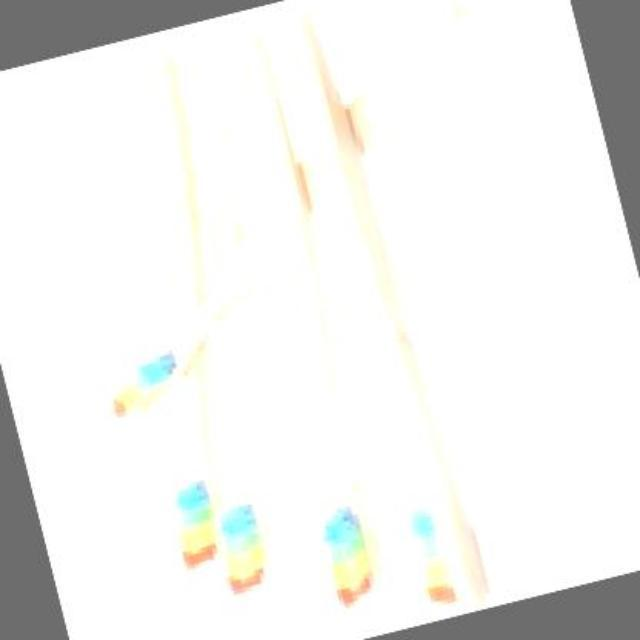toothbrush: (270, 0, 480, 616)
